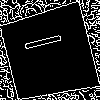I: (24, 27, 72, 54)
